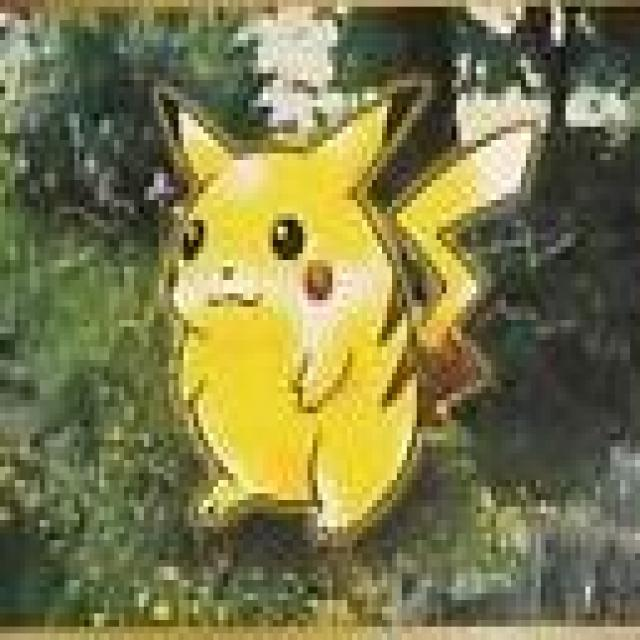pikachu: (162, 75, 532, 531)
